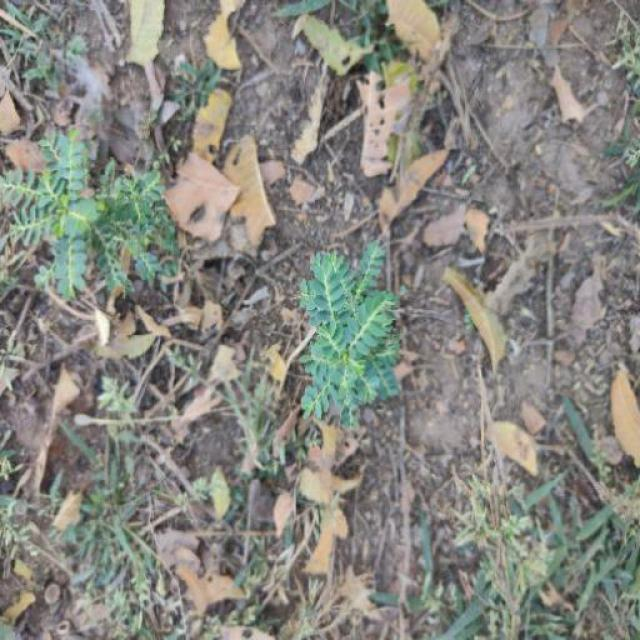weed: (9, 121, 192, 310), (294, 239, 406, 426)
